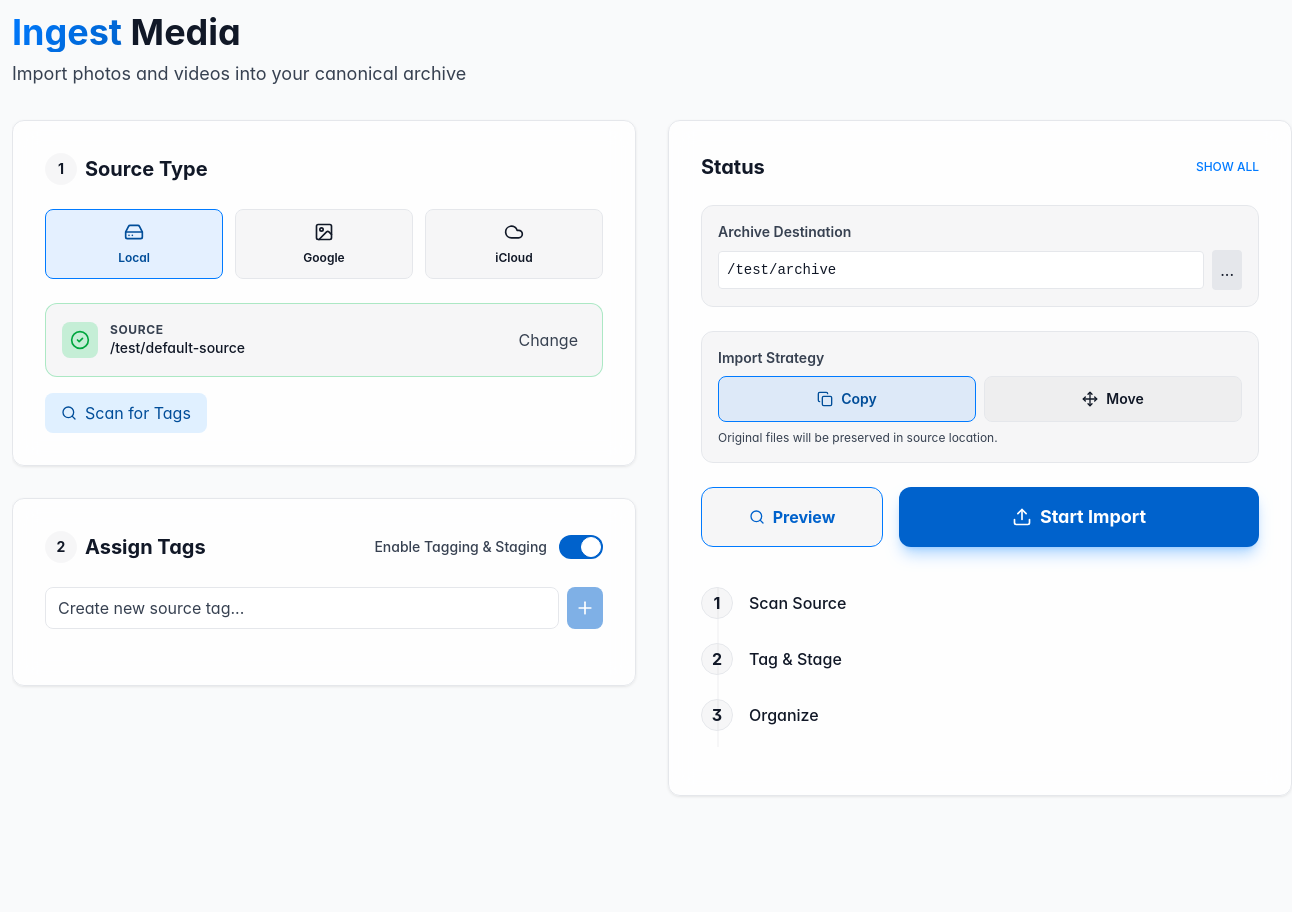
Test: Ingest › Path Selection › allows manually changing source path overriding default
Check: the text with test id "source-path-display" reads "/test/default-source", box [110,339,245,356]
Find the "Change" button in the source card
Click the button "Change".
click(548, 340)  # box [510,320,586,360]
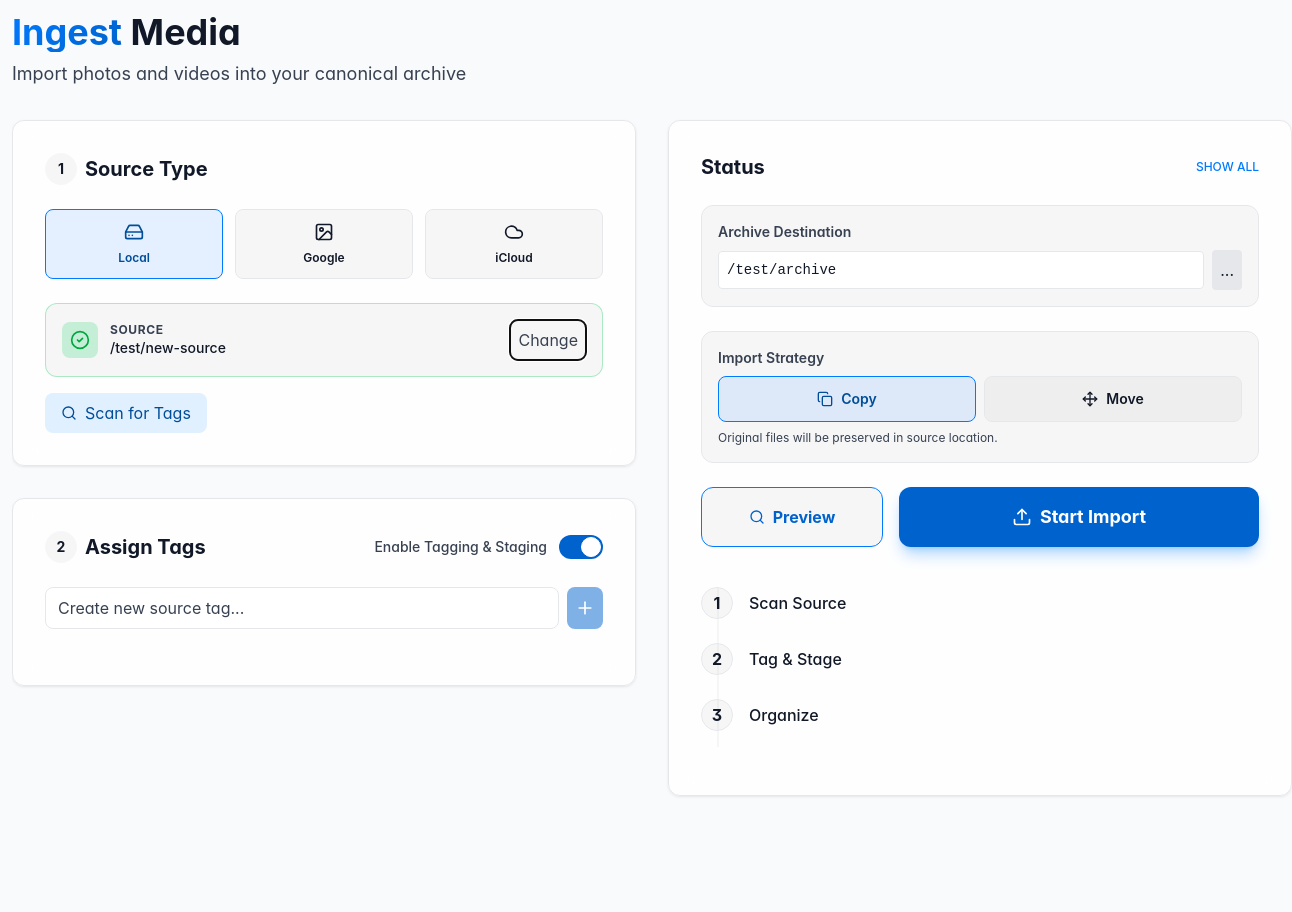
Check: the text with test id "source-path-display" reads "/test/new-source", box [110,339,226,356]
